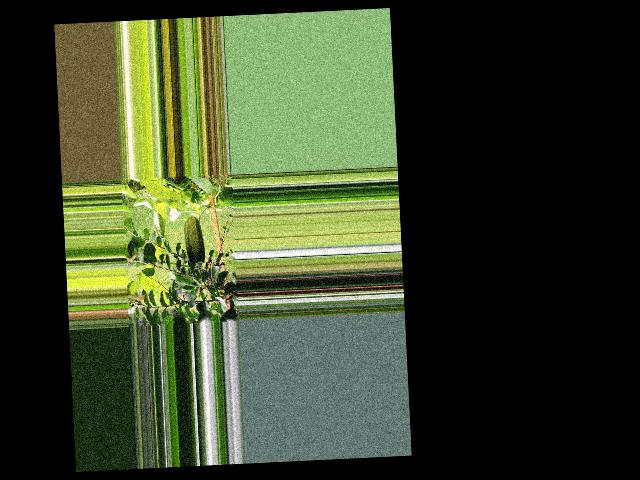cucumber: (184, 215, 206, 269)
